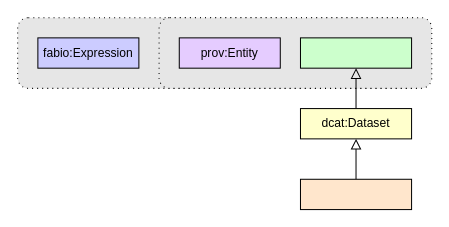
The diagram is 449 pixels wide and 227 high, and some of its shapes have lost their labels. Each missing label, with the box of its shape:
dcat:DatasetSeries: (299, 178, 412, 210)
dcat:Resource: (299, 37, 412, 68)
